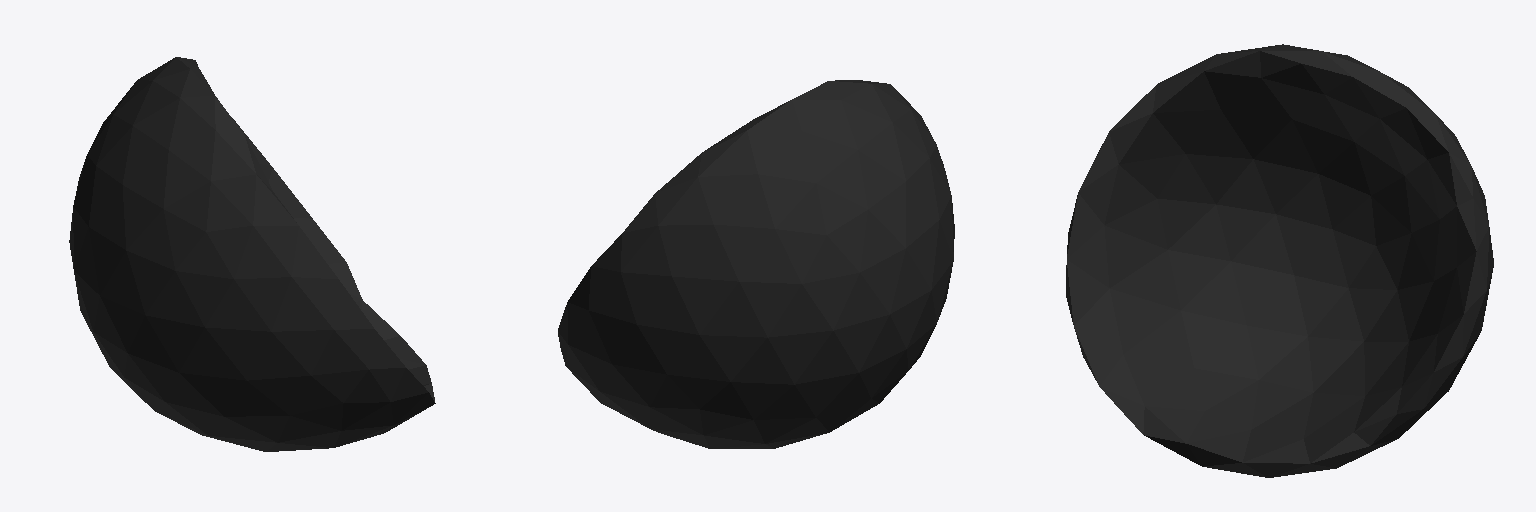
Rendered from shell2.obj.
3 renders of one model, left to right at view 1: azimuth 30°, elevation 25°; view 2: azimuth 150°, elevation 25°; view 3: azimuth 270°, elevation 25°, orthographic.
Parts seen in each view (by area): view 1: Icosphere_Shell2; view 2: Icosphere_Shell2; view 3: Icosphere_Shell2.
Boxes of the visible parts, x1,y1,x2,y2 form: Icosphere_Shell2: [69, 57, 435, 451]; Icosphere_Shell2: [558, 80, 954, 448]; Icosphere_Shell2: [1066, 44, 1493, 477].
Size of the model in its own units: 1.69 by 1.85 by 1.97.